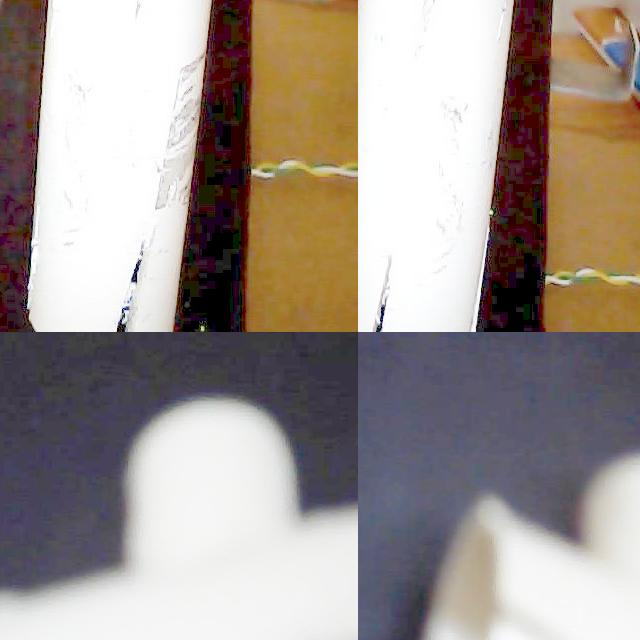Defective: (95, 193, 154, 332), (157, 49, 205, 216), (485, 584, 596, 640), (358, 223, 395, 332), (462, 213, 493, 332), (408, 0, 461, 68), (22, 192, 45, 330), (366, 250, 396, 332), (492, 0, 523, 52), (415, 0, 441, 60), (132, 0, 174, 29), (494, 0, 516, 44)
T Joint: (0, 404, 358, 640), (26, 0, 217, 332), (428, 455, 640, 640)
